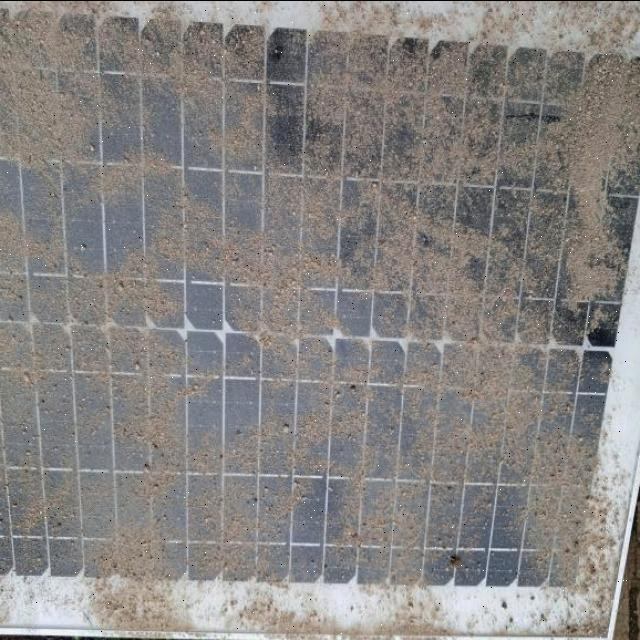Anomaly Solar Panel: (1, 6, 604, 602)
Surface Contaminant: (0, 52, 590, 596)
